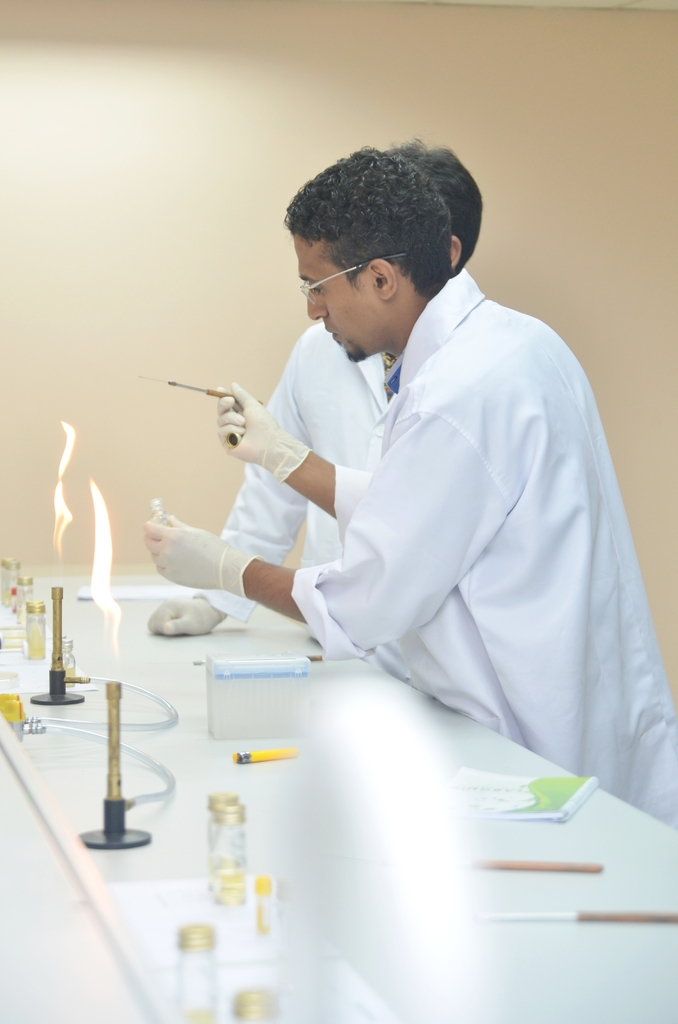Person: (143, 145, 678, 832)
